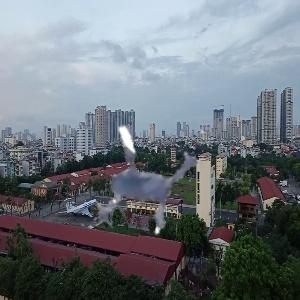drone: (50, 72, 230, 252)
